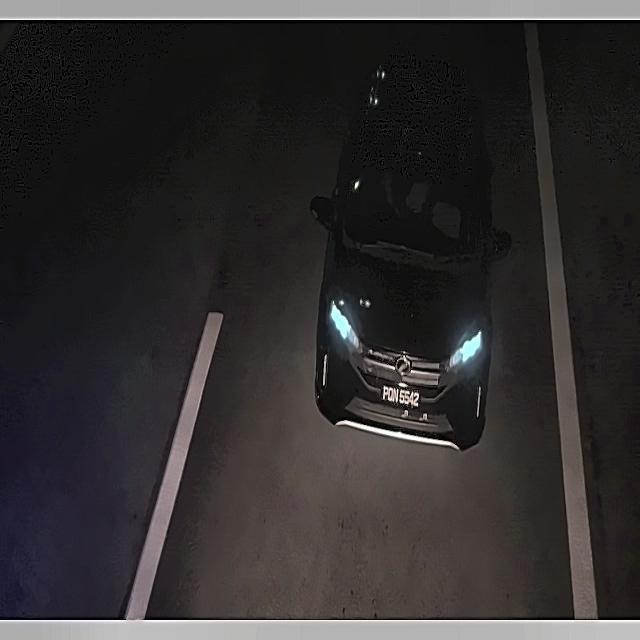car: (378, 382, 424, 416)
